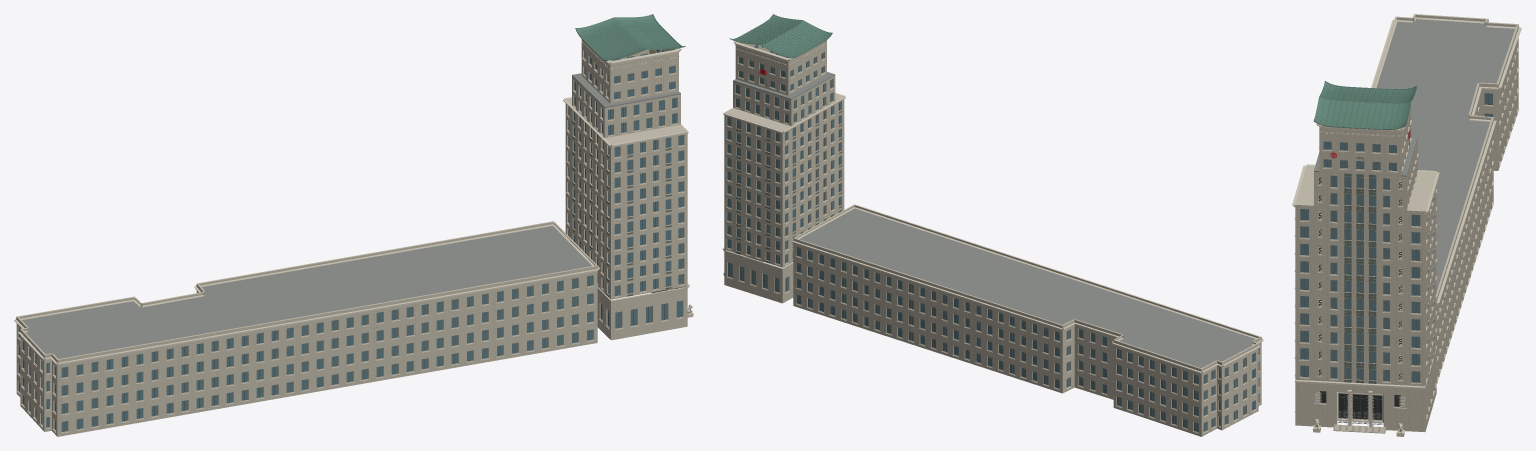
File: bund23.glb
3 renders of one model, left to right at view 1: azimuth 30°, elevation 25°; view 2: azimuth 150°, elevation 25°; view 3: azimuth 270°, elevation 25°, orthographic. The views are drawn at different scales.
Bounding box in the file's own units: 171 × 73.54 × 49.01.
